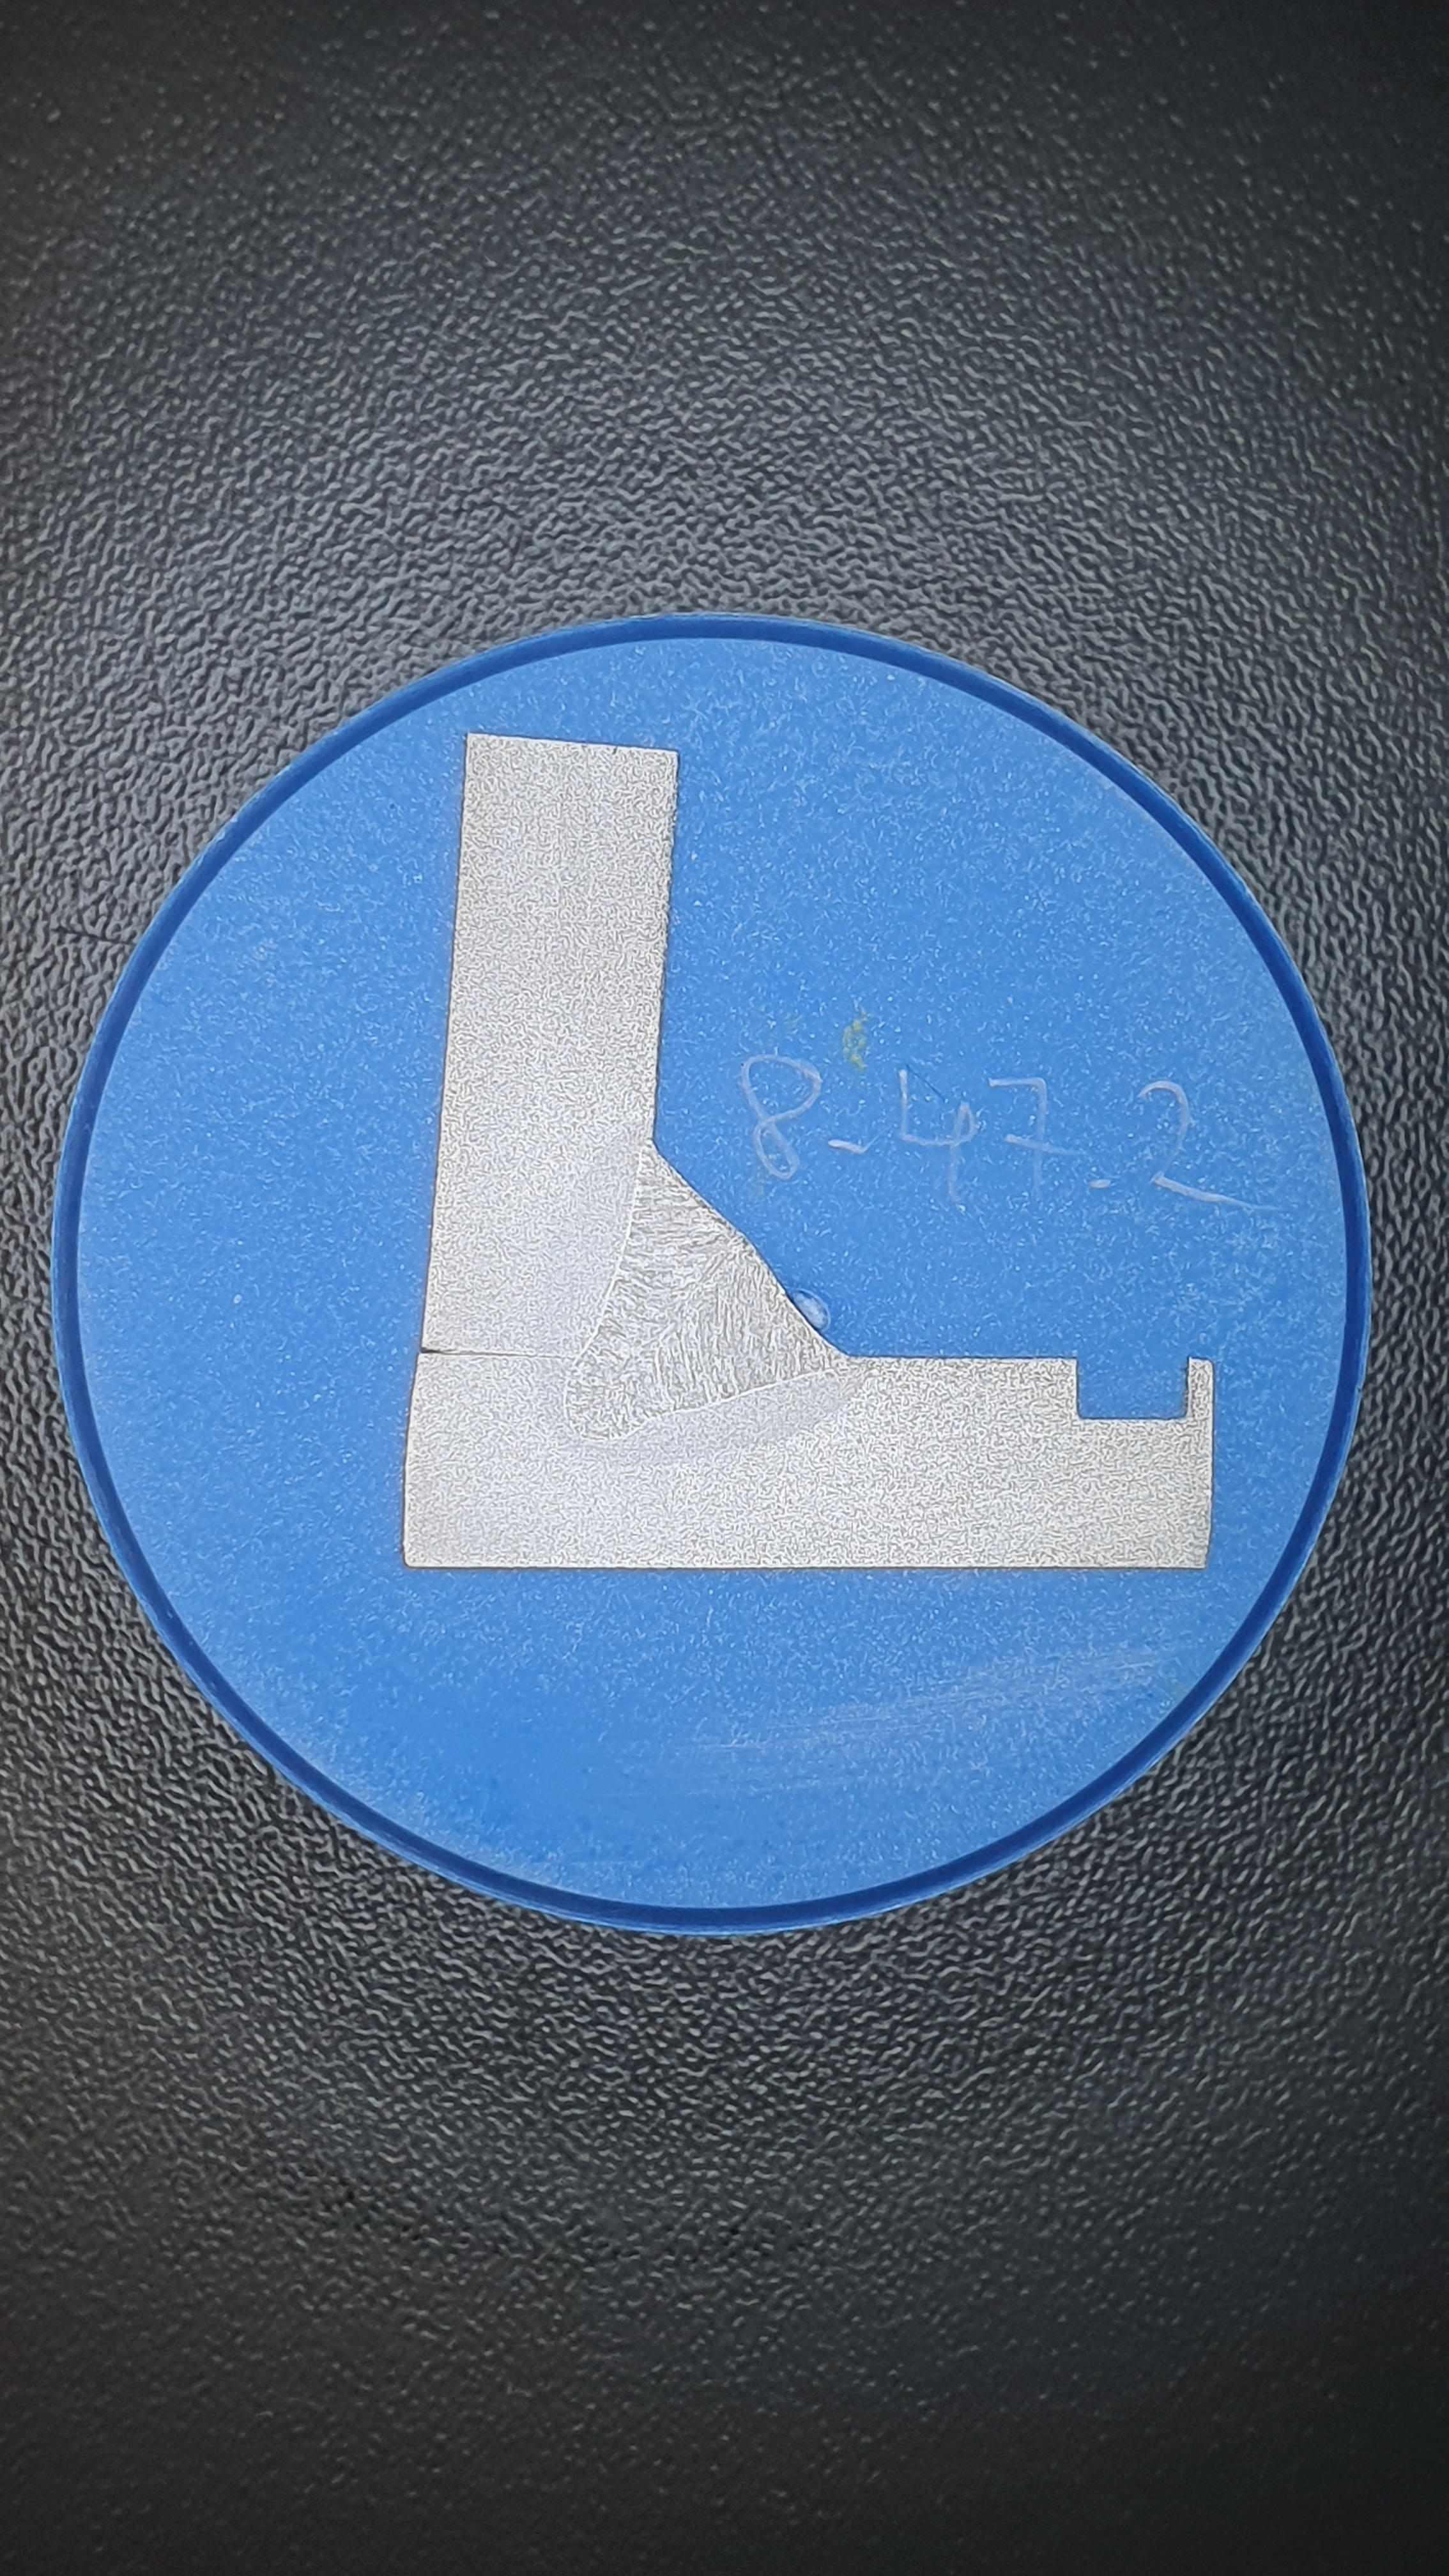Fusion: (564, 1139, 855, 1437)
Hintergrund: (78, 640, 1346, 1911)
Metall: (402, 727, 1214, 1569)
Nebenbereich: (540, 1115, 872, 1467)
